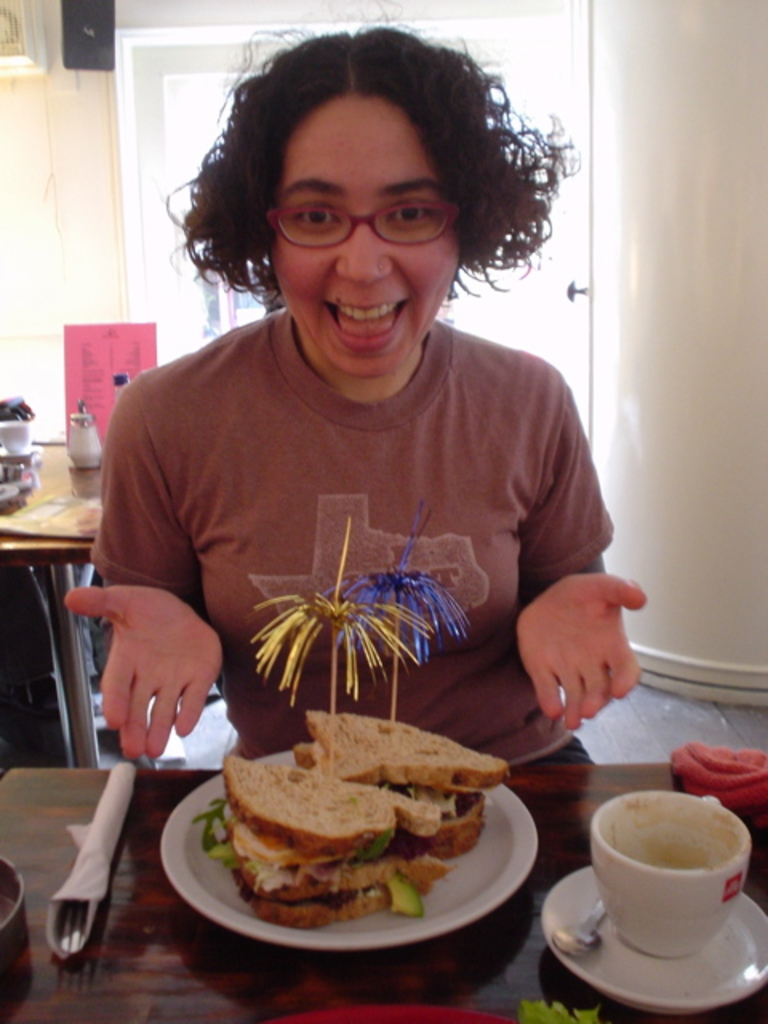sandwich: (218, 710, 515, 933)
